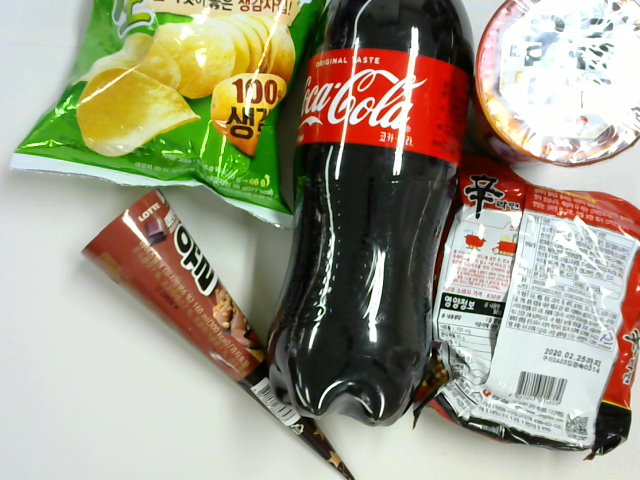Coca_Cola_1.5L: (265, 1, 476, 422)
Ojjam: (475, 1, 640, 168)
Pocachip_Onion: (17, 1, 306, 205)
Sinramen: (422, 169, 640, 453)
World_Cone_Choco: (85, 190, 357, 480)
